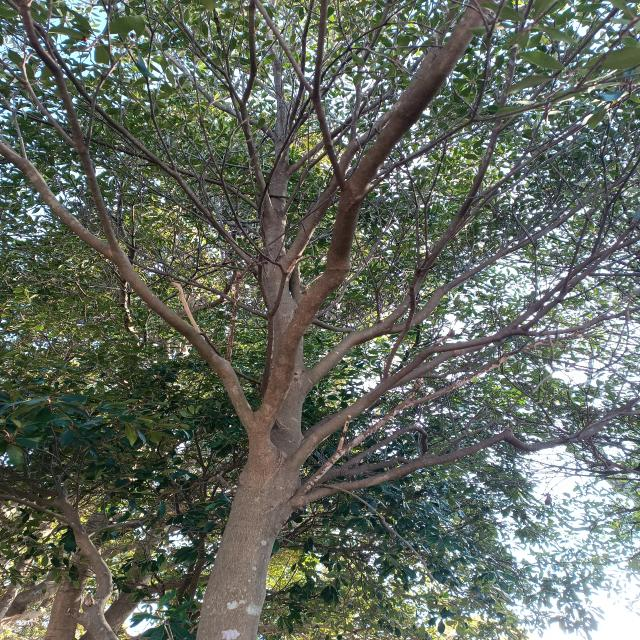Branch: (255, 1, 495, 430), (300, 421, 609, 507), (106, 246, 253, 426), (289, 109, 392, 259), (301, 322, 393, 393), (296, 390, 377, 469), (302, 454, 436, 490)
Twig: (34, 19, 261, 276), (297, 335, 602, 494), (383, 0, 518, 323), (376, 233, 640, 398), (391, 171, 632, 334), (17, 0, 119, 245), (255, 0, 348, 189), (517, 193, 608, 332), (0, 142, 109, 255), (0, 58, 77, 150), (242, 0, 274, 212), (569, 219, 639, 291), (591, 157, 639, 255), (391, 343, 486, 389), (339, 425, 429, 467), (86, 50, 125, 145), (527, 307, 639, 336), (439, 413, 506, 456)
